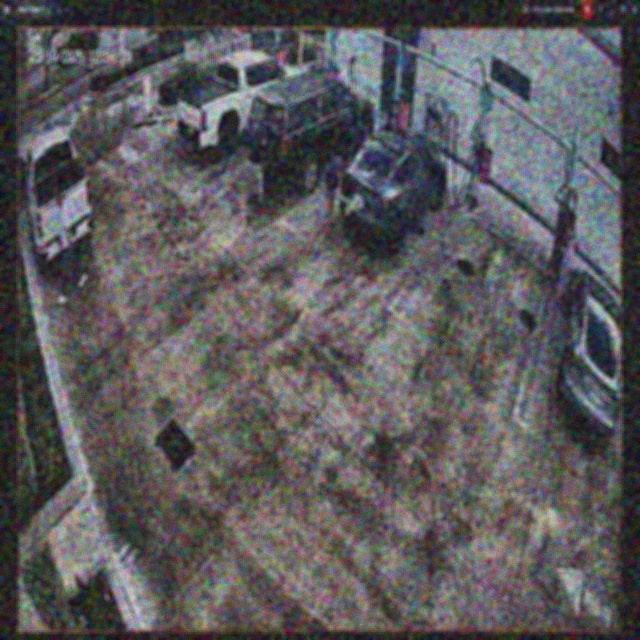Car: (250, 75, 375, 193), (342, 125, 447, 258), (180, 55, 302, 158)
